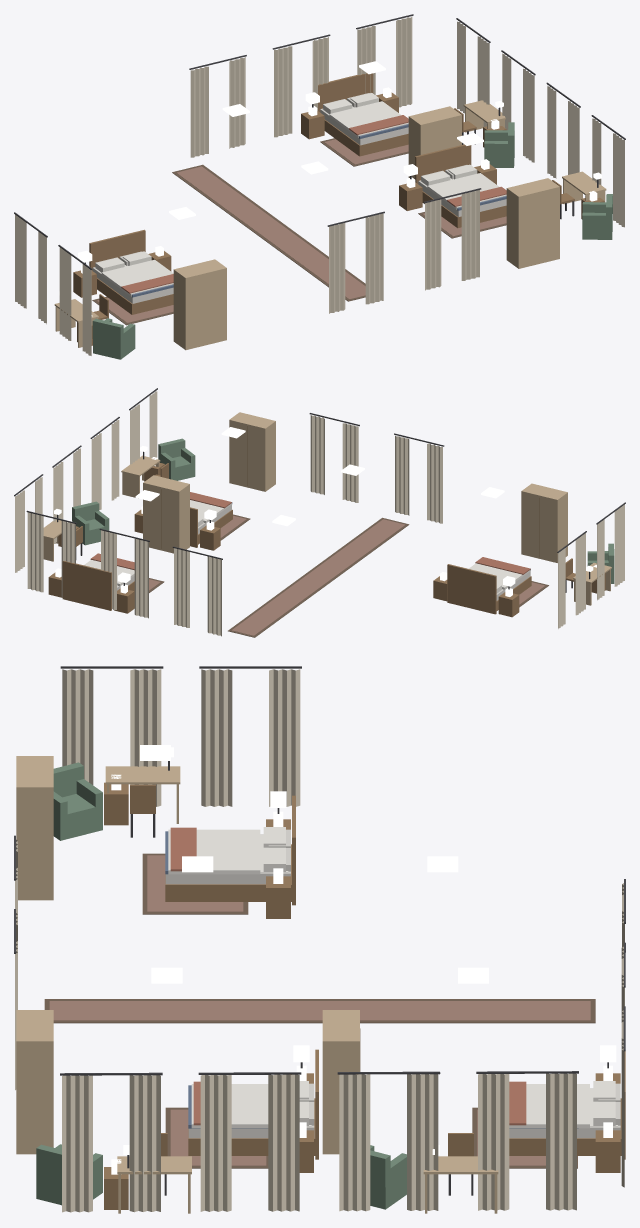
File: fine-s2.glb
3 renders of one model, top to bottom at view 1: azimuth 30°, elevation 25°; view 2: azimuth 150°, elevation 25°; view 3: azimuth 270°, elevation 25°, orthographic. The views are drawn at different scales.
Parts seen in each view (by area): view 1: soft-s2, dresser.003, dresser.005, bed-frame.004, bed-frame.003, bed-frame.005, dresser.004, lounge-chair.003, lounge-chair.005, lounge-chair.004, writing-desk.005, writing-desk.004 (+3 smaller); view 2: soft-s2, dresser.003, dresser.005, dresser.004, bed-frame.003, bed-frame.004, lounge-chair.005, lounge-chair.004, writing-desk.005, bed-frame.005, writing-desk.004, writing-desk.003 (+5 smaller); view 3: soft-s2, dresser.003, dresser.005, dresser.004, bed-frame.003, lounge-chair.003, bed-frame.005, bed-frame.004, lounge-chair.004, lounge-chair.005, writing-desk.003, writing-desk.004 (+7 smaller).
Boxes of the visible parts, x1,y1,x2,y2 form: soft-s2: (14,14,625,355); dresser.003: (173,259,226,350); dresser.005: (506,178,559,268); bed-frame.004: (318,73,408,156); bed-frame.003: (89,229,173,314); bed-frame.005: (415,144,506,228); dresser.004: (408,106,461,178); lounge-chair.003: (92,318,135,359); lounge-chair.005: (582,194,612,239); lounge-chair.004: (484,122,514,167); writing-desk.005: (562,171,606,204); writing-desk.004: (463,100,505,132); soft-s2: (14,388,625,637); dresser.003: (521,483,567,562); dresser.005: (229,412,275,491); dresser.004: (143,475,189,553); bed-frame.003: (447,564,531,614); bed-frame.004: (62,561,134,610); lounge-chair.005: (158,438,195,480); lounge-chair.004: (72,501,109,545); writing-desk.005: (121,446,160,497); bed-frame.005: (190,502,232,547); writing-desk.004: (43,509,71,561); writing-desk.003: (573,562,611,605); soft-s2: (14,666,625,1212); dresser.003: (16,756,53,900); dresser.005: (16,1010,53,1154); dresser.004: (322,1010,360,1154); bed-frame.003: (165,795,295,905); lounge-chair.003: (53,762,102,840); bed-frame.005: (188,1049,318,1159); bed-frame.004: (509,1051,625,1159); lounge-chair.004: (370,1145,406,1209); lounge-chair.005: (36,1144,102,1205); writing-desk.003: (105,747,180,823); writing-desk.004: (423,1145,498,1213).
Size of the model in its own units: 15.51 by 2.64 by 9.84.
